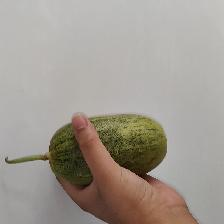gua: (53, 118, 167, 169)
